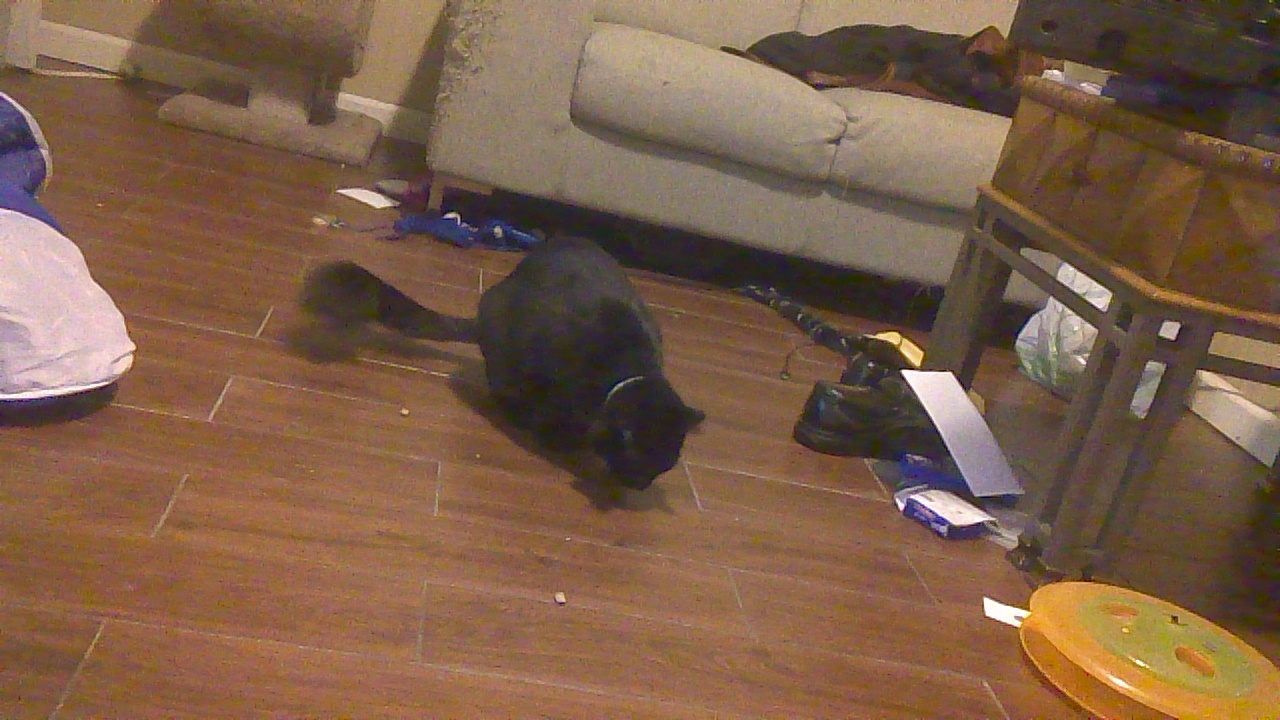cat: (285, 225, 718, 502)
